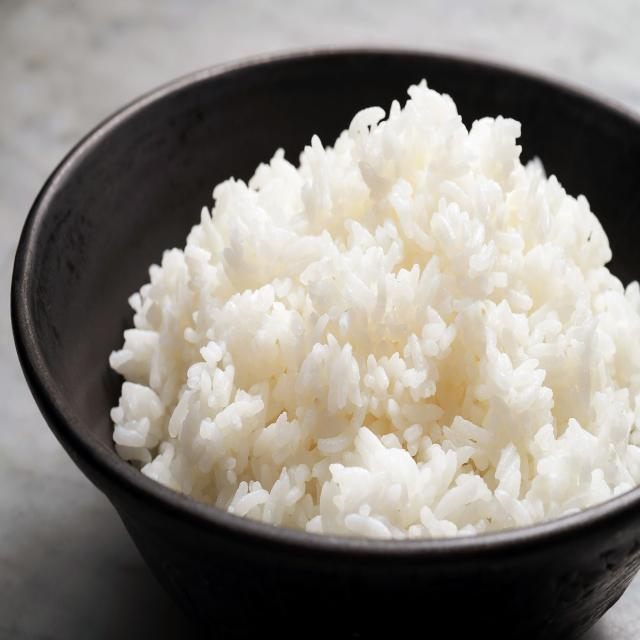rice: (108, 77, 640, 550)
